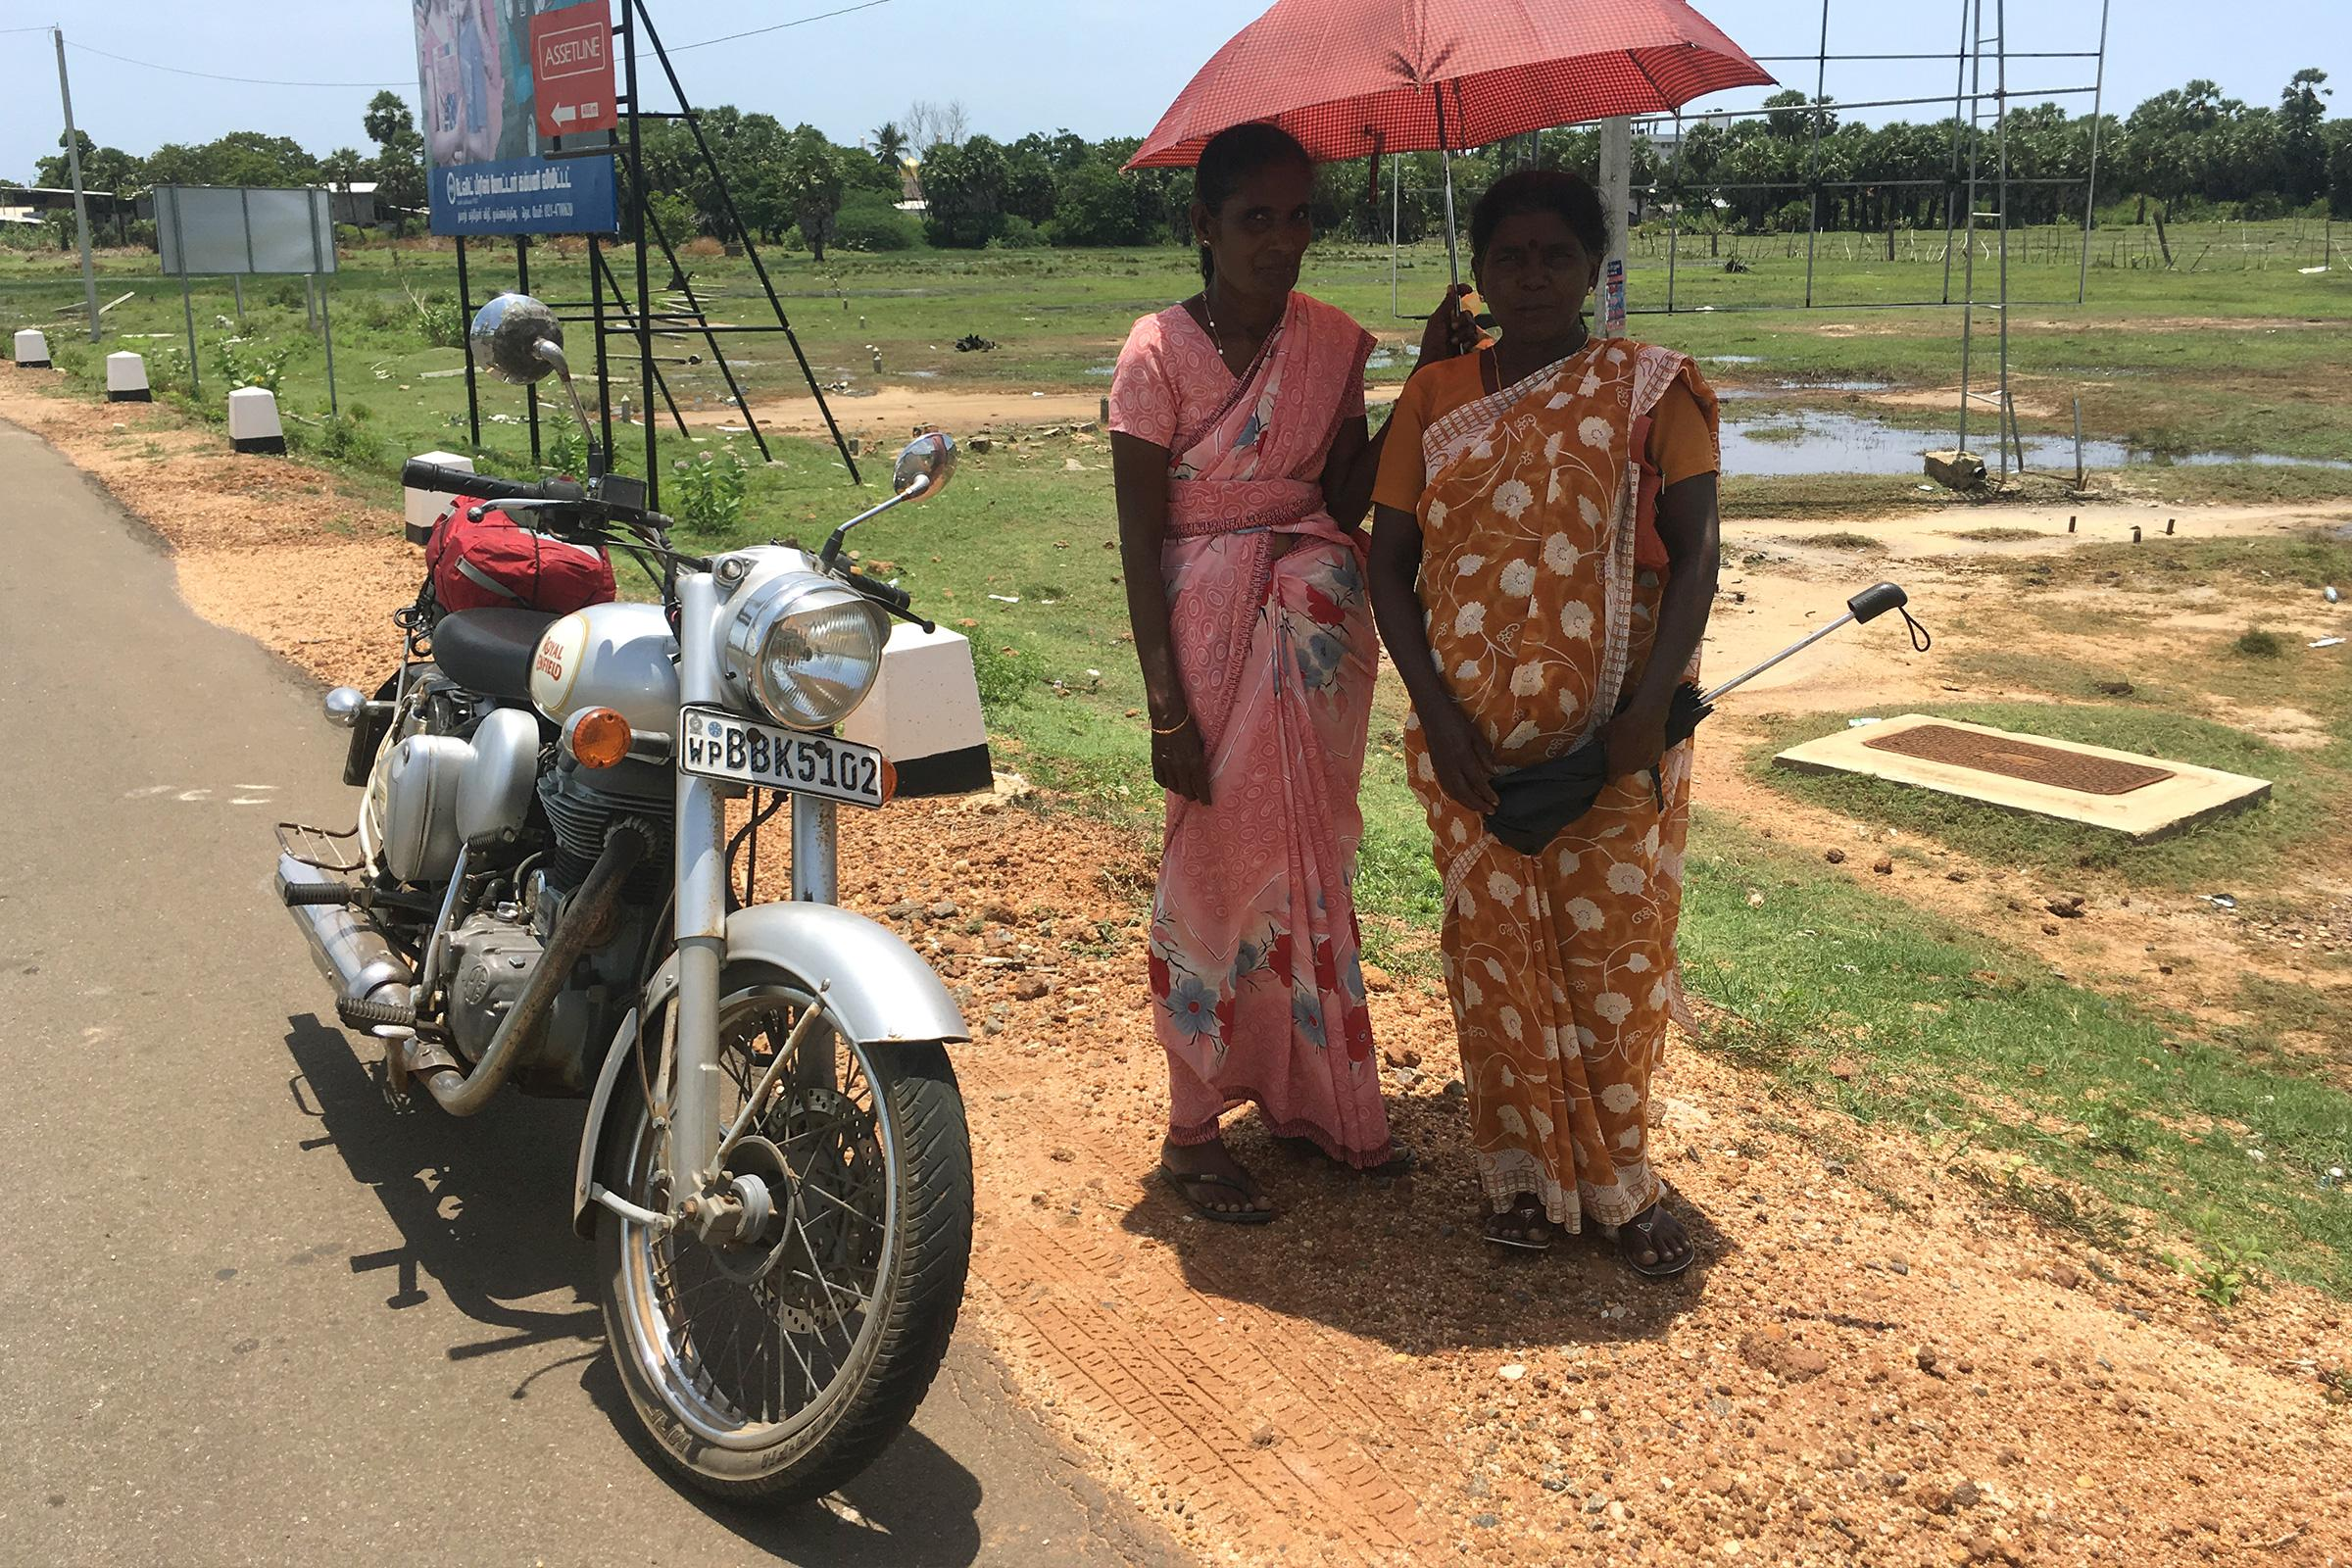motorbike: (271, 289, 968, 1510)
